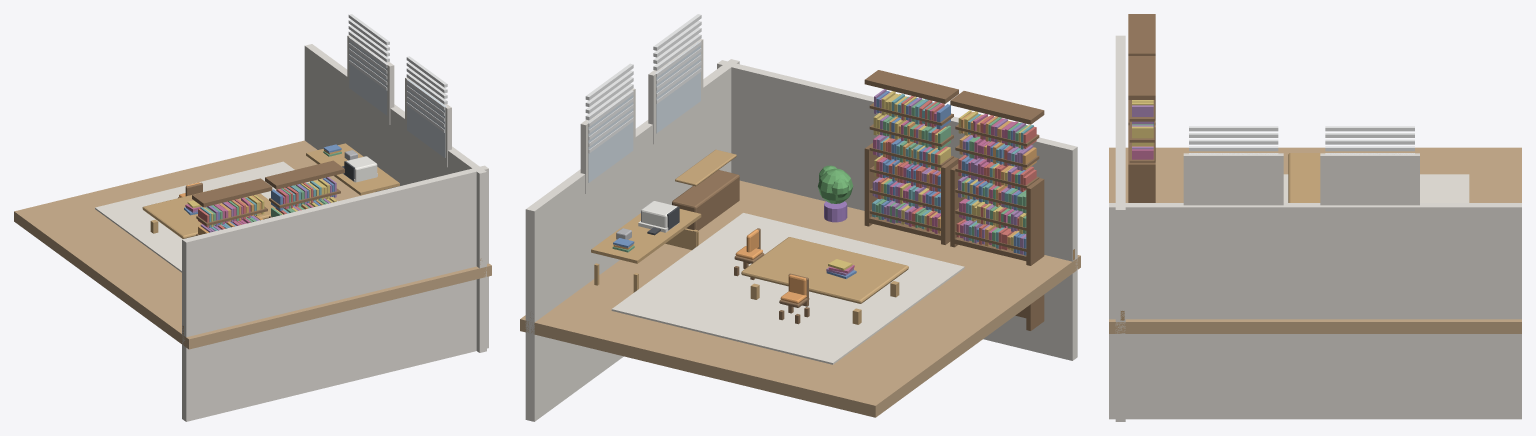
File: room_study.glb
3 views of the same model, side by side, from view 1: azimuth 30°, elevation 25°; view 2: azimuth 150°, elevation 25°; view 3: azimuth 270°, elevation 25° (orthographic). The views are drawn at different scales.
Visible parts, largest first — view 1: R01_shell, R01_furniture; view 2: R01_shell, R01_furniture, R01_cabinet, R01_props; view 3: R01_shell, R01_furniture.
Part boxes in pixels (x1,y1,x2,y2): R01_shell: [14, 14, 491, 421]; R01_furniture: [142, 143, 399, 238]; R01_shell: [520, 14, 1080, 421]; R01_furniture: [591, 70, 1044, 330]; R01_cabinet: [672, 149, 739, 230]; R01_props: [818, 165, 853, 222]; R01_shell: [1109, 35, 1521, 421]; R01_furniture: [1128, 14, 1324, 202].
Bounding box in the file's own units: 10.6 × 8.16 × 10.6.
